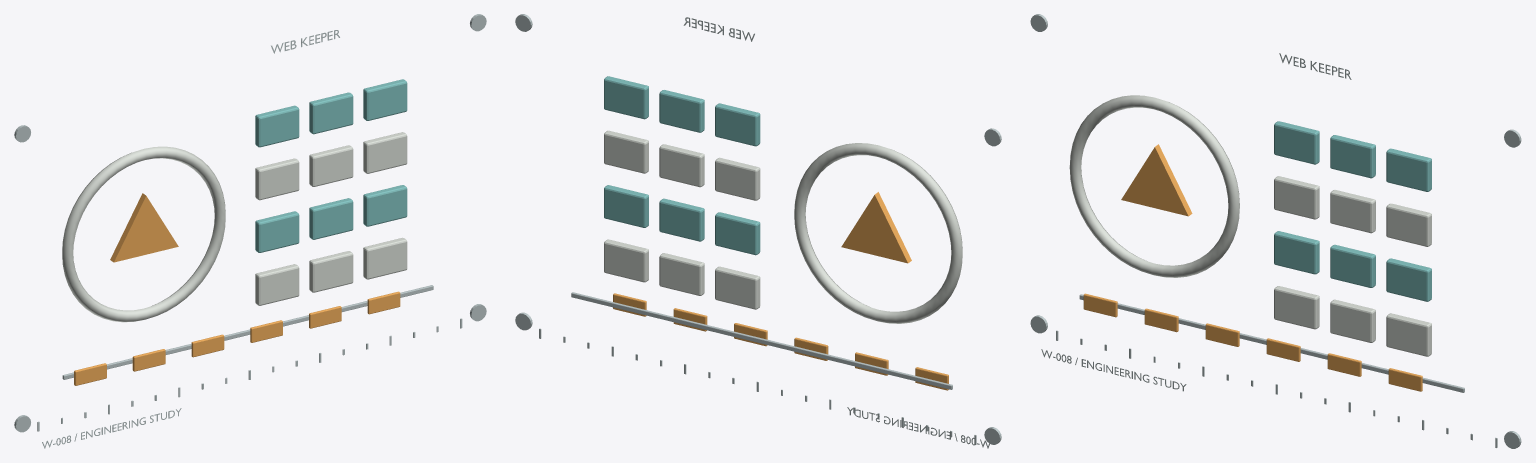
The model's file is hls-keeper.glb.
3 views of the same model, side by side, from view 1: azimuth 30°, elevation 25°; view 2: azimuth 150°, elevation 25°; view 3: azimuth 330°, elevation 25° (orthographic). The views are drawn at different scales.
Visible parts, largest first — view 1: optical-core__Project_Trace.003, optical-core__Project_Ceramic.006, optical-lenses__Project_Ceramic.001, optical-core__Project_Amber.007, optical-lenses__Project_Silver.007; view 2: optical-core__Project_Ceramic.006, optical-core__Project_Trace.003, optical-lenses__Project_Ceramic.001, optical-core__Project_Amber.007, optical-lenses__Project_Silver.007; view 3: optical-core__Project_Ceramic.006, optical-core__Project_Trace.003, optical-lenses__Project_Ceramic.001, optical-core__Project_Amber.007, optical-lenses__Project_Silver.007.
Part boxes in pixels (x1,y1,x2,y2): optical-core__Project_Trace.003: (255,79,407,252); optical-core__Project_Ceramic.006: (255,132,407,305); optical-lenses__Project_Ceramic.001: (62,146,225,322); optical-core__Project_Amber.007: (74,193,400,385); optical-lenses__Project_Silver.007: (14,14,486,448); optical-core__Project_Ceramic.006: (604,130,760,309); optical-core__Project_Trace.003: (604,76,760,255); optical-lenses__Project_Ceramic.001: (794,143,962,323); optical-core__Project_Amber.007: (613,192,948,390); optical-lenses__Project_Silver.007: (515,14,1001,448); optical-core__Project_Ceramic.006: (1274,176,1431,356); optical-core__Project_Trace.003: (1274,121,1431,301); optical-lenses__Project_Ceramic.001: (1069,95,1239,277); optical-core__Project_Amber.007: (1083,144,1422,391); optical-lenses__Project_Silver.007: (1030,14,1521,448).
Bounding box in the file's own units: 4.01 × 2.83 × 0.1417.
